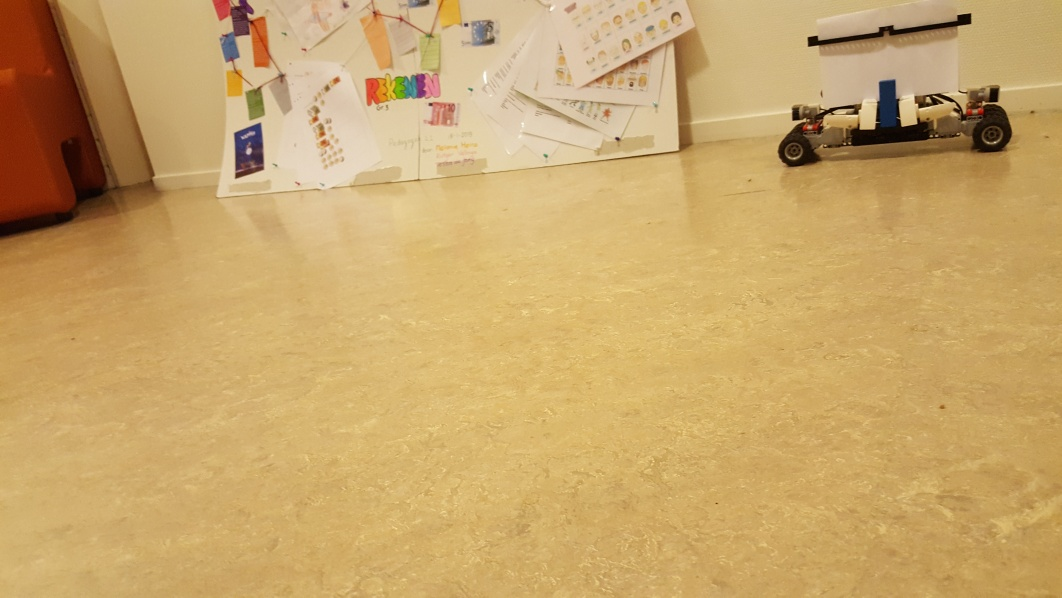beam: (878, 74, 898, 131)
